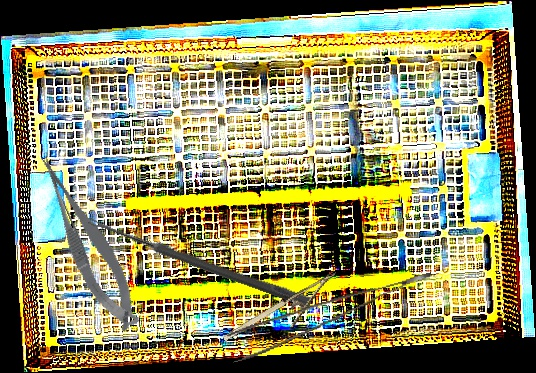Micro Scissor: (32, 143, 146, 340)
Needle Holder: (220, 270, 350, 360)
Surgical Spoon: (86, 215, 313, 309)
Tissue Forceps: (223, 272, 441, 363)
